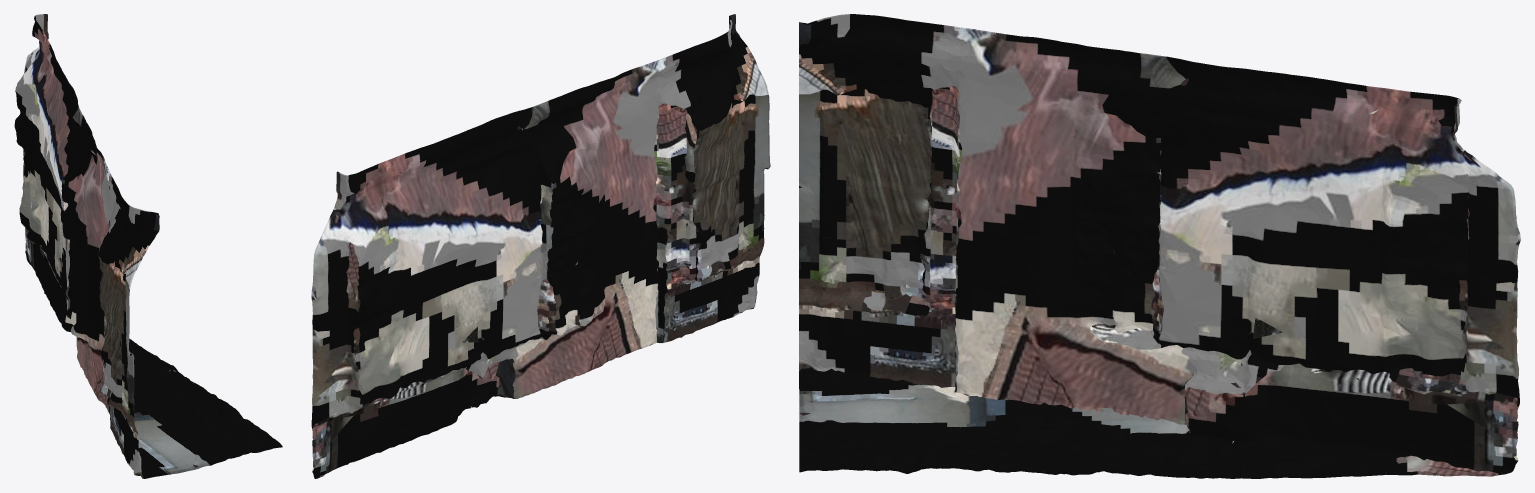
3 renders of one model, left to right at view 1: azimuth 30°, elevation 25°; view 2: azimuth 150°, elevation 25°; view 3: azimuth 270°, elevation 25°, orthographic. The views are drawn at different scales.
Parts seen in each view (by area): view 1: node_206; view 2: node_206; view 3: node_206.
Boxes of the visible parts, bbox=[...] form: node_206: bbox=[14, 14, 282, 478]; node_206: bbox=[311, 14, 770, 478]; node_206: bbox=[799, 14, 1520, 478].
Size of the model in its own units: 3.59 by 5.89 by 10.34.
1 material, 1 textured.
